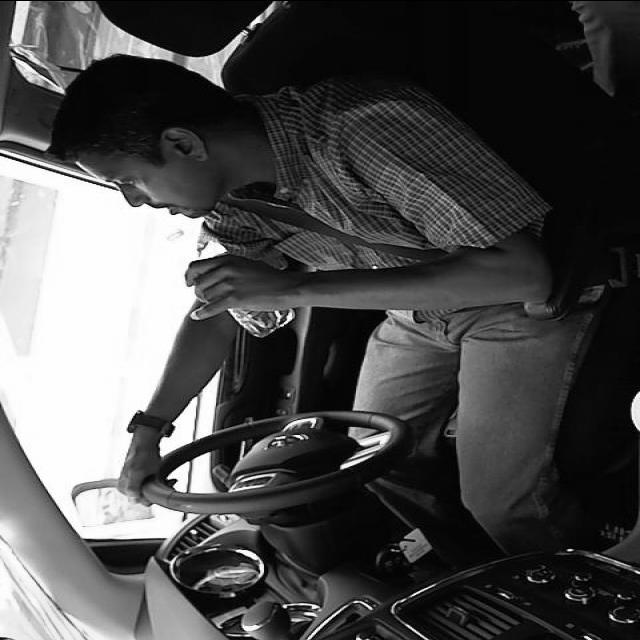drinking: (159, 226, 299, 338)
